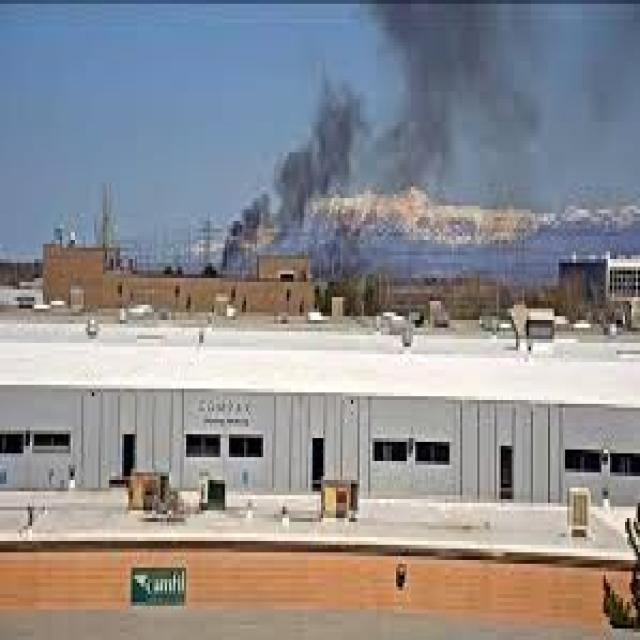Smoke: (218, 0, 640, 267)
